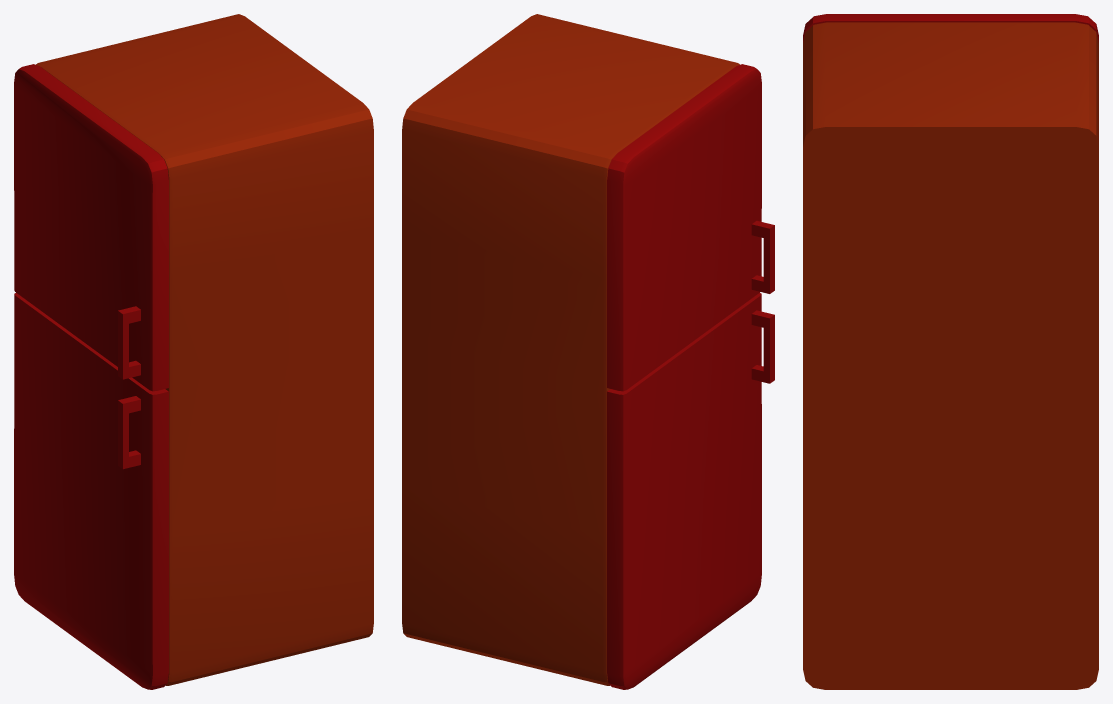
Rendered from Fridge.fbx.
The picture shows the model from 3 angles, left to right: view 1: azimuth 30°, elevation 25°; view 2: azimuth 150°, elevation 25°; view 3: azimuth 270°, elevation 25°; orthographic projection. The views are drawn at different scales.
Parts seen in each view (by area): view 1: Fridge, FridgeDoorBottom, FridgeDoorTop, Box012, Box011; view 2: Fridge, FridgeDoorBottom, FridgeDoorTop, Box011, Box012; view 3: Fridge, FridgeDoorTop.
Boxes of the visible parts, x1,y1,x2,y2 form: Fridge: [36, 14, 373, 685]; FridgeDoorBottom: [14, 293, 168, 689]; FridgeDoorTop: [14, 64, 168, 391]; Box012: [118, 306, 140, 379]; Box011: [118, 396, 140, 469]; Fridge: [402, 14, 739, 685]; FridgeDoorBottom: [607, 293, 761, 689]; FridgeDoorTop: [607, 64, 761, 391]; Box011: [751, 310, 774, 383]; Box012: [751, 221, 774, 293]; Fridge: [803, 22, 1098, 689]; FridgeDoorTop: [803, 14, 1098, 42].
Bounding box in the file's own units: 71.12 × 149 × 71.12.
